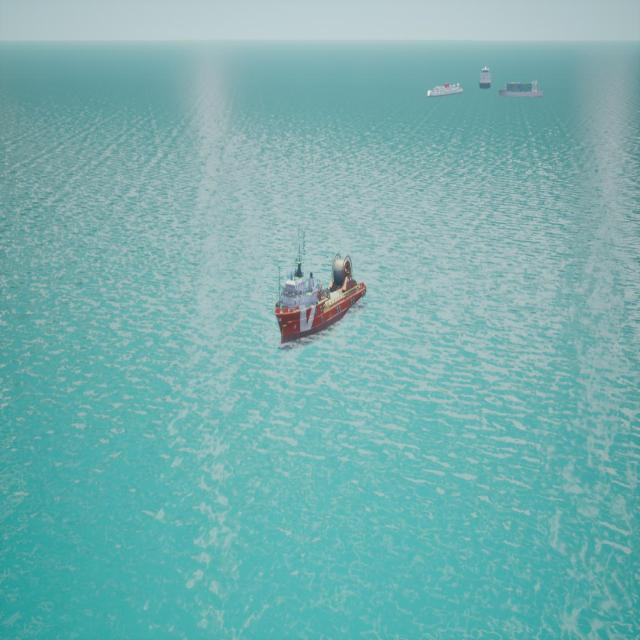tug boat: (275, 238, 367, 347)
